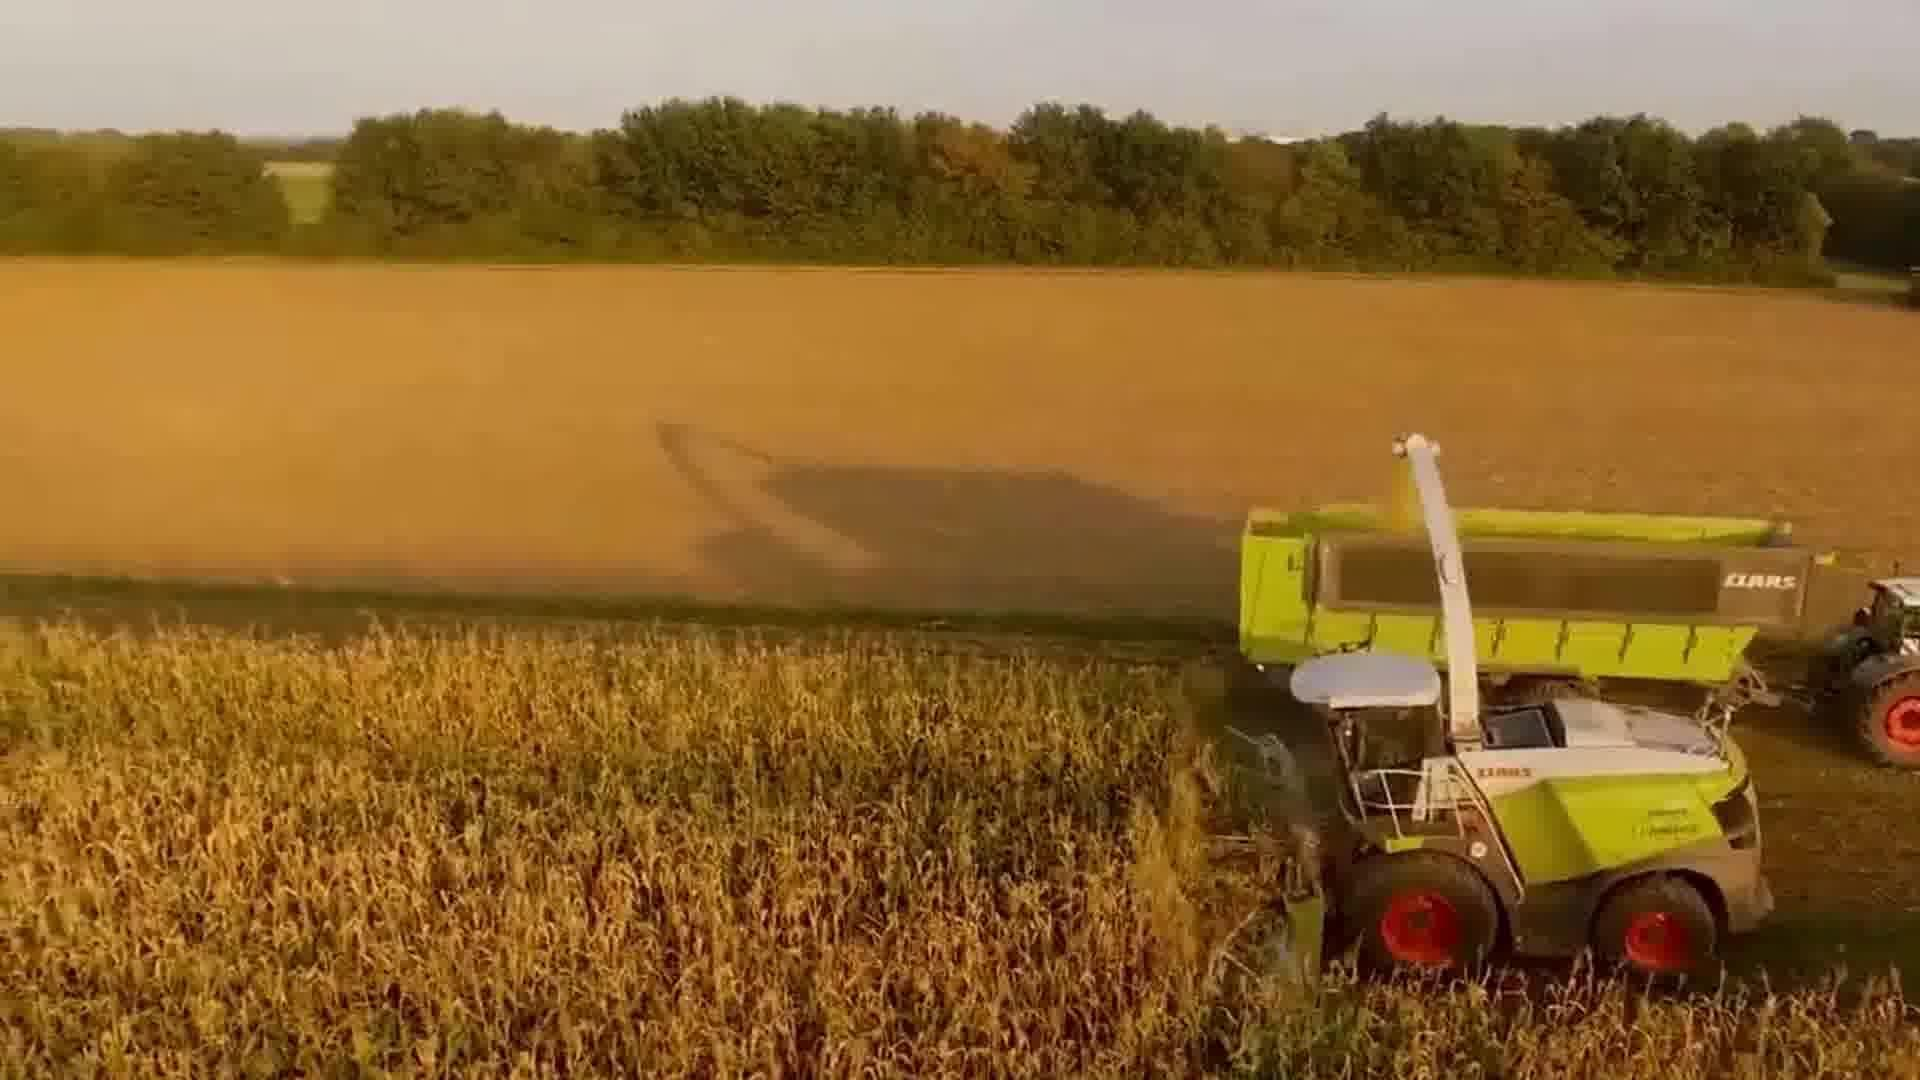combine harvester: (1199, 426, 1788, 989)
tractor: (1797, 560, 1920, 777)
trailer: (1237, 496, 1813, 707)
